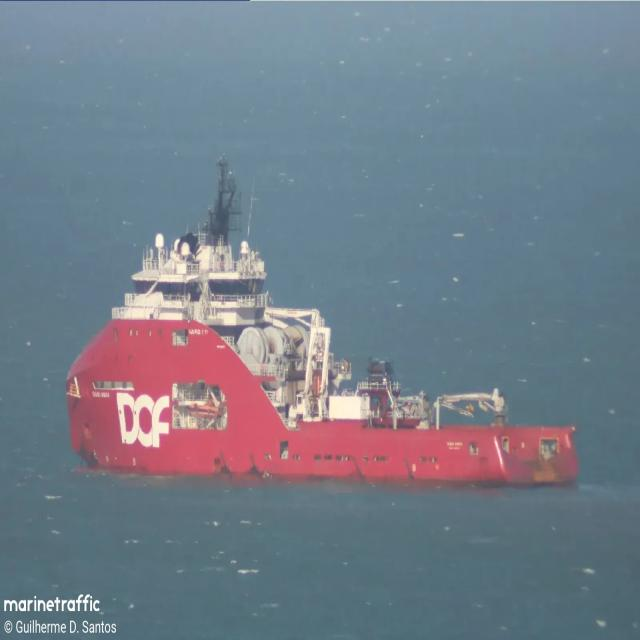Offshore: (66, 160, 578, 485)
